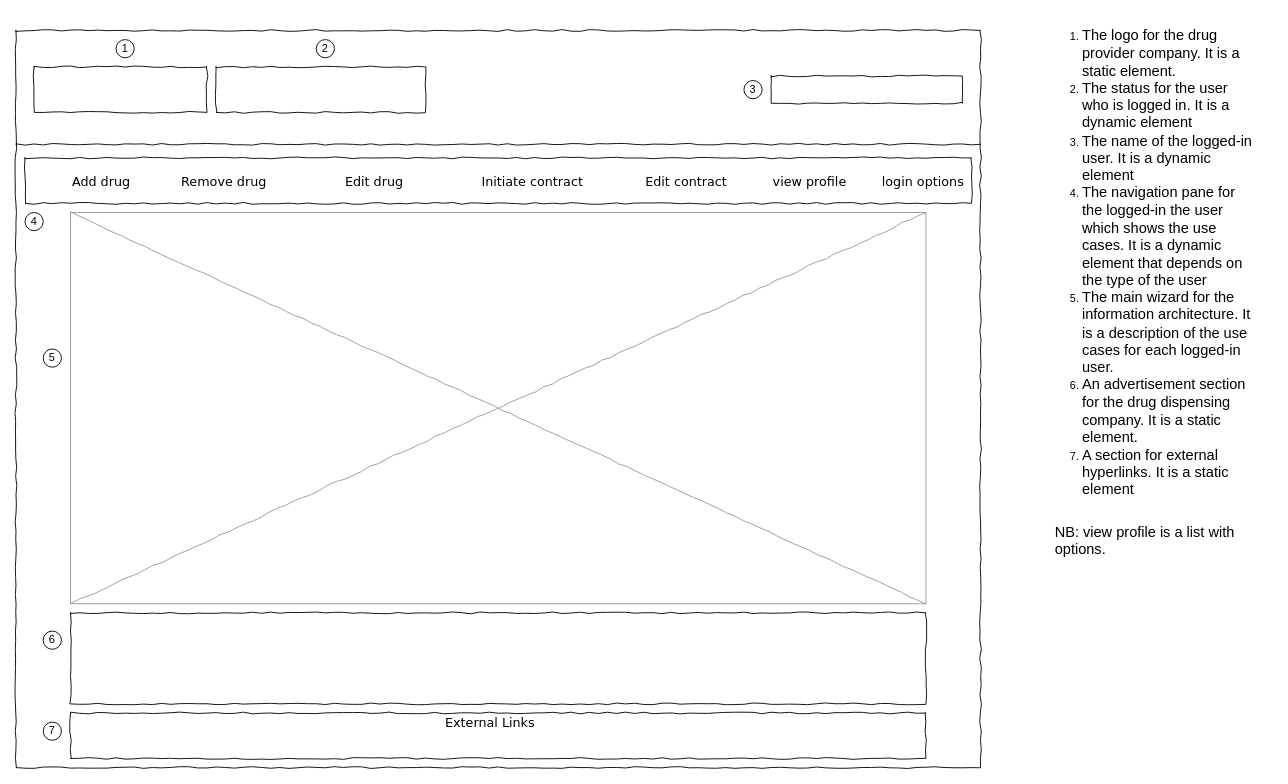
Some shapes in this 1288 by 784 pixel diagram are drawn without their labels. The box of each missing label's shape, as (x1, y1, x2, y2) in pixels:
Aspirine: (770, 75, 962, 103)
At drug consultancy, your health is our ultimate focus: (70, 612, 926, 704)
LOGO: (33, 66, 207, 112)
Pharmaceutical: (215, 66, 425, 112)
